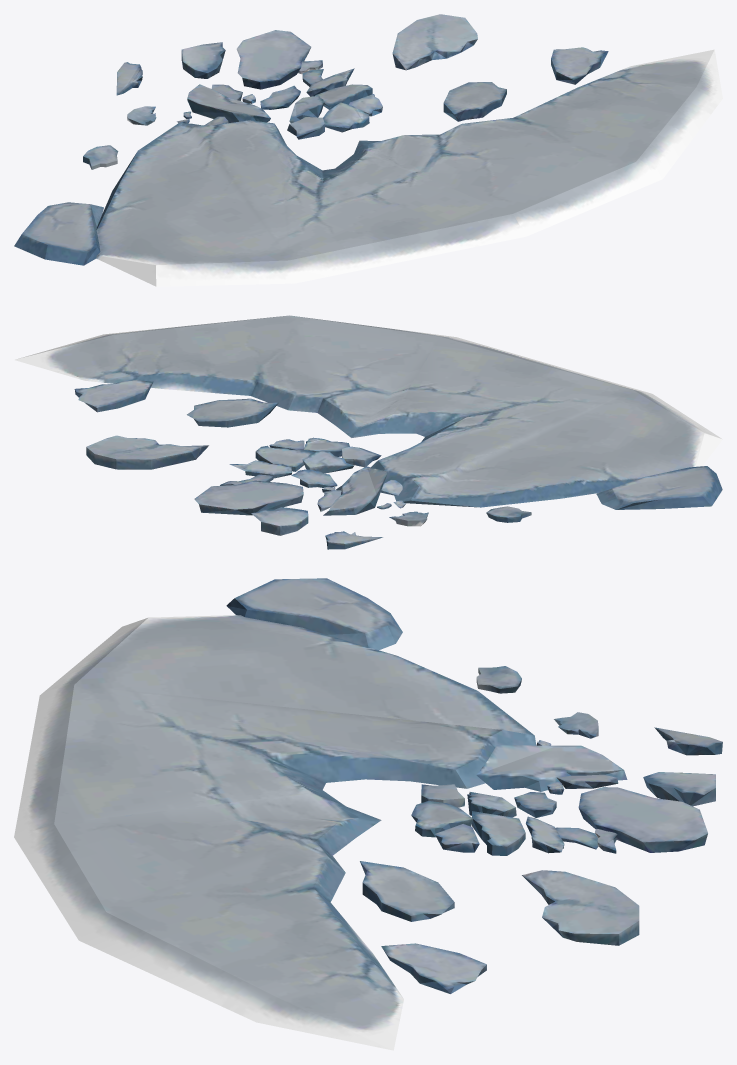
File: map_114_shitou_8.fbx
3 renders of one model, top to bottom at view 1: azimuth 30°, elevation 25°; view 2: azimuth 150°, elevation 25°; view 3: azimuth 270°, elevation 25°, orthographic. The views are drawn at different scales.
Parts seen in each view (by area): view 1: map_114_shitou_8; view 2: map_114_shitou_8; view 3: map_114_shitou_8.
Boxes of the visible parts, x1=… form: map_114_shitou_8: x1=14, y1=14, x2=722, y2=286; map_114_shitou_8: x1=15, y1=315, x2=722, y2=549; map_114_shitou_8: x1=14, y1=578, x2=722, y2=1050.
Bounding box in the file's own units: 11.44 × 0.27 × 7.36.
